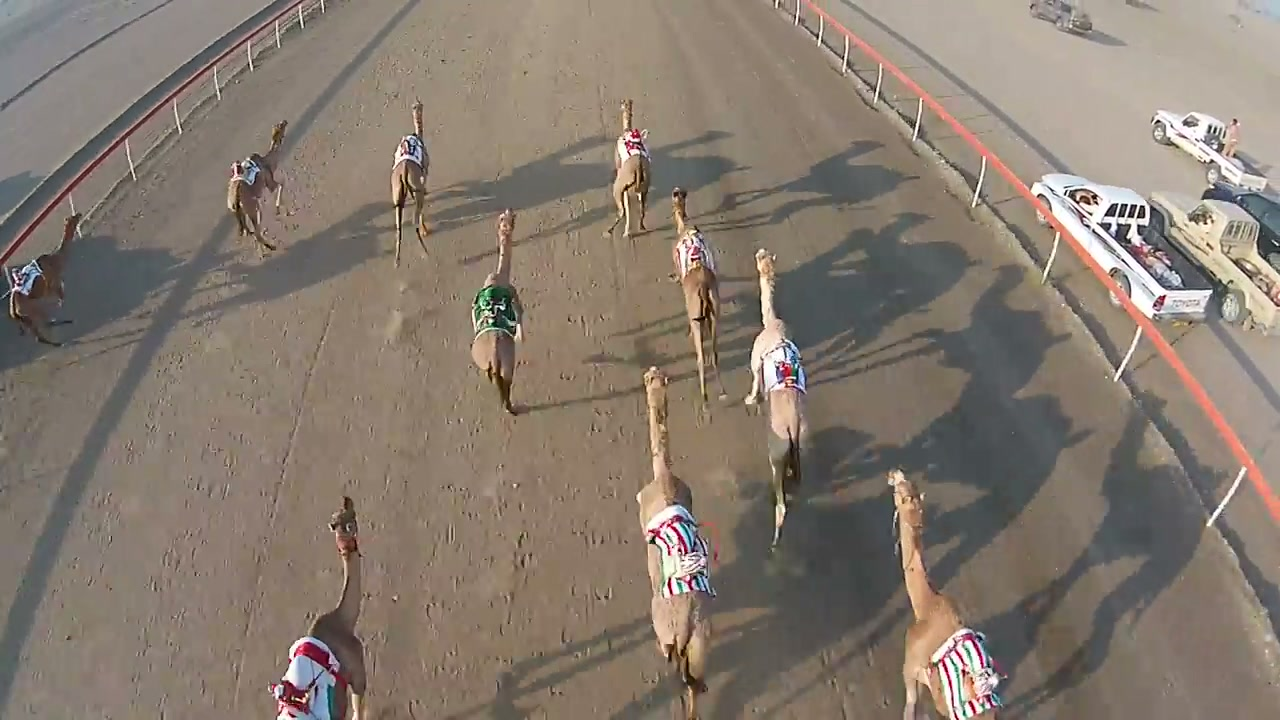animal_footprint: (58, 238, 295, 615), (524, 242, 635, 713), (424, 402, 544, 695)
